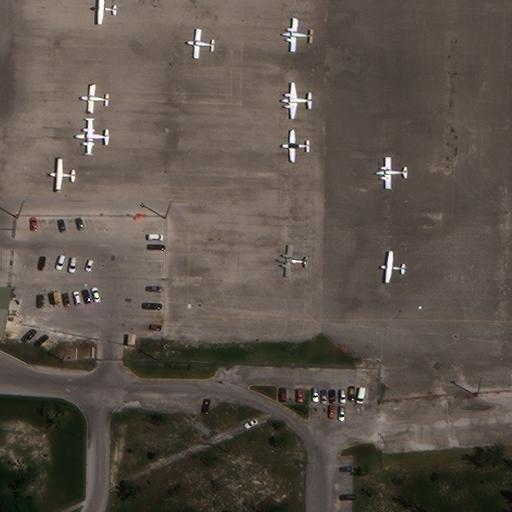Small Civil Transport: (72, 118, 112, 154), (279, 83, 314, 118), (279, 18, 314, 51), (373, 157, 408, 189), (274, 245, 309, 275), (378, 251, 409, 282), (47, 159, 77, 190), (184, 29, 216, 58), (280, 131, 310, 161), (78, 85, 110, 113), (90, 0, 119, 24)
